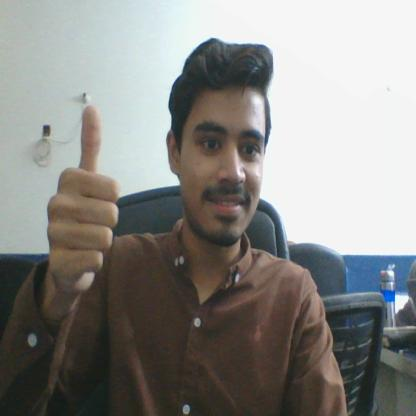thumbs-up: (45, 106, 124, 274)
